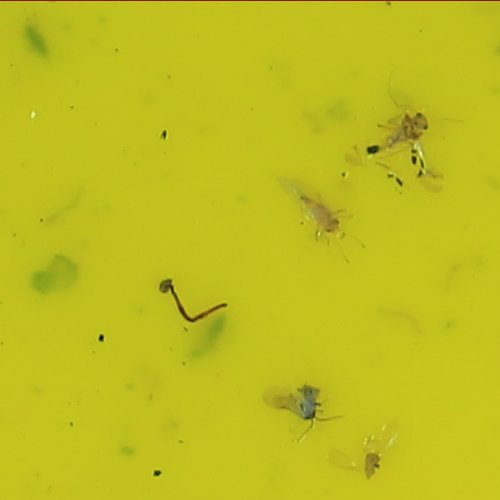psylla: (299, 192, 345, 237)
